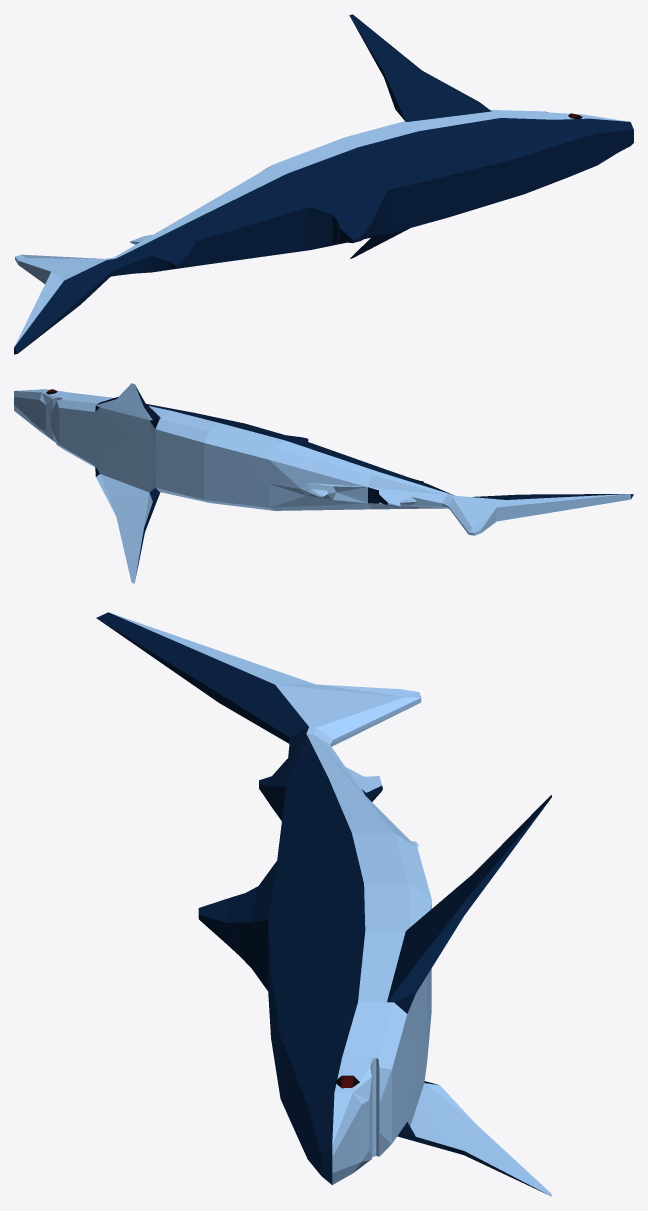
The model's file is BlueShark.obj.
3 renders of one model, top to bottom at view 1: azimuth 30°, elevation 25°; view 2: azimuth 150°, elevation 25°; view 3: azimuth 270°, elevation 25°, orthographic. The views are drawn at different scales.
Parts seen in each view (by area): view 1: BlueShark_0; view 2: BlueShark_0; view 3: BlueShark_0.
Boxes of the visible parts, x1,y1,x2,y2 form: BlueShark_0: (14, 14, 633, 354); BlueShark_0: (14, 383, 633, 583); BlueShark_0: (96, 612, 551, 1196).
Bounding box in the file's own units: 2.41 × 0.8203 × 0.8483.
Materials: 1 (1 with a texture image).
